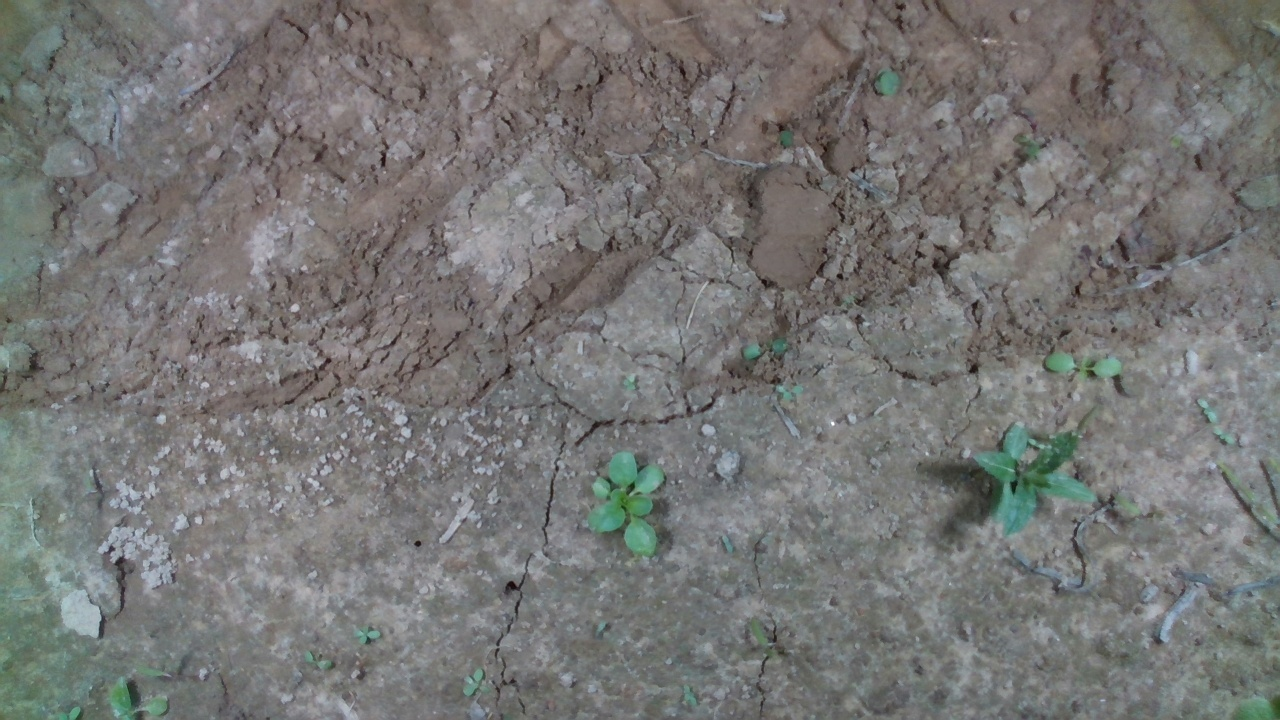weed: (1041, 348, 1124, 383), (459, 667, 492, 697), (351, 621, 384, 646), (300, 647, 333, 671), (1195, 395, 1219, 425), (1212, 424, 1237, 446)
